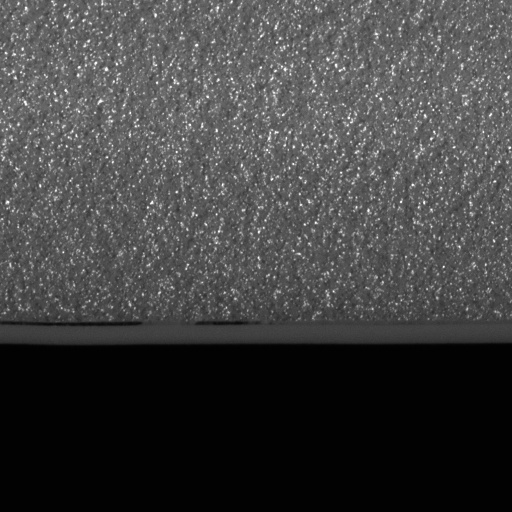jiaofeng: (0, 316, 148, 342), (192, 317, 266, 340)
